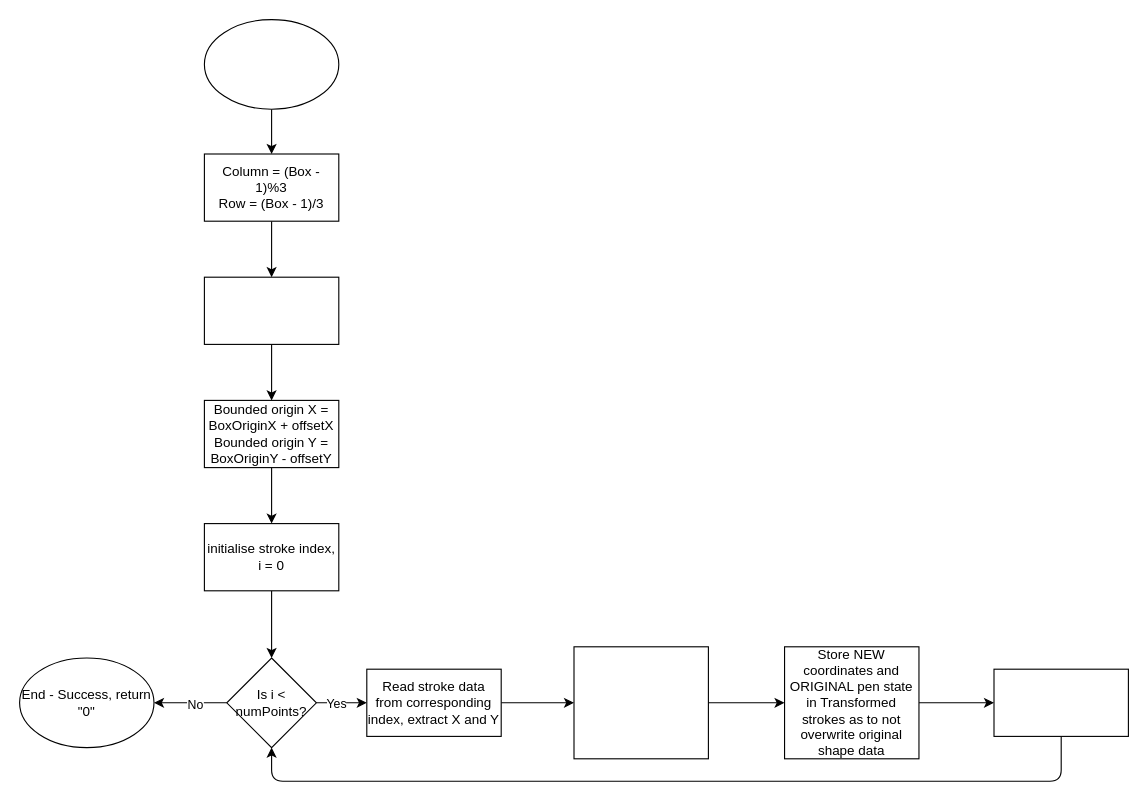
Some shapes in this 1148 by 810 pixel diagram are drawn without their labels. The centre of each missing label's shape, as x and y in pixels:
"Box origin X = Column * BoxSize Box origin Y = Row * BoxSize * -1" goes at (271,310).
"i++" goes at (1060,702).
"Start - TransformCoord()" goes at (271,63).
"X new = BoundedOriginX + SF(X - Xmin) Y new = BoundedOriginY + SF(Y - Ymax)" goes at (640,702).
